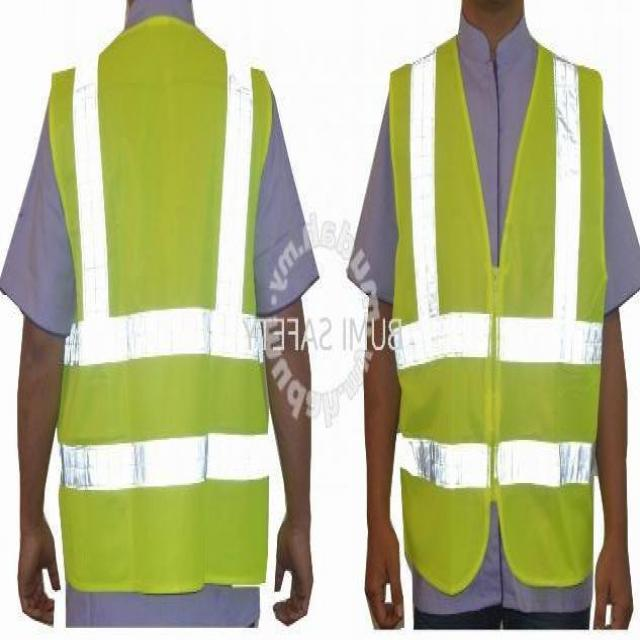Reflective-Jacket: (36, 12, 290, 612), (378, 26, 614, 609)
